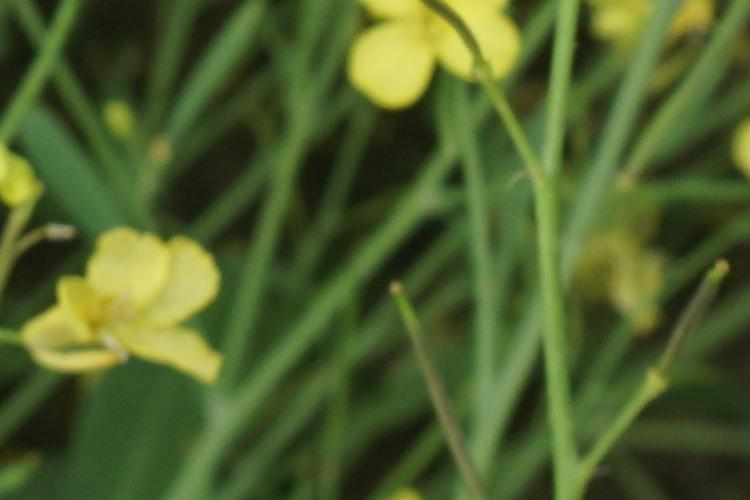yellow: (42, 212, 228, 387), (348, 6, 543, 95)
